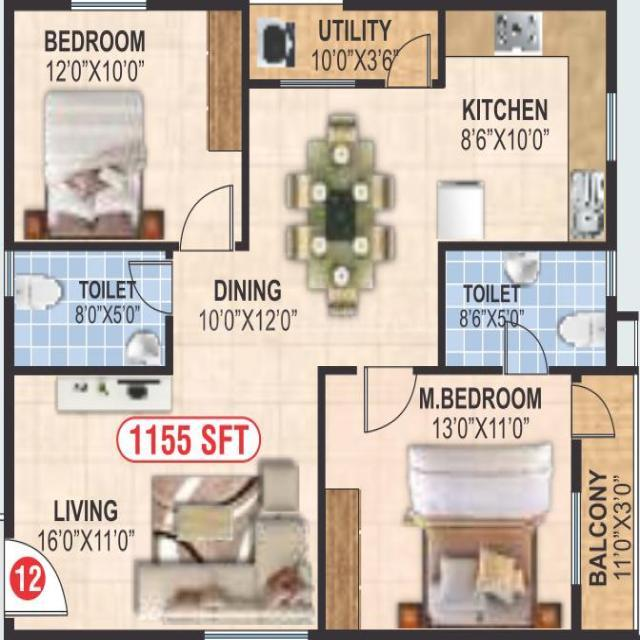Balcony-Sitout: (570, 377, 640, 640)
Bedroom: (5, 1, 250, 253)
Bedroom with Toilet: (320, 240, 617, 634)
Dining: (283, 109, 395, 314)
Kitchen: (438, 2, 616, 246)
Living: (3, 365, 328, 638)
Toilet: (440, 244, 615, 371), (4, 242, 175, 369)
Utility: (243, 1, 442, 93)
